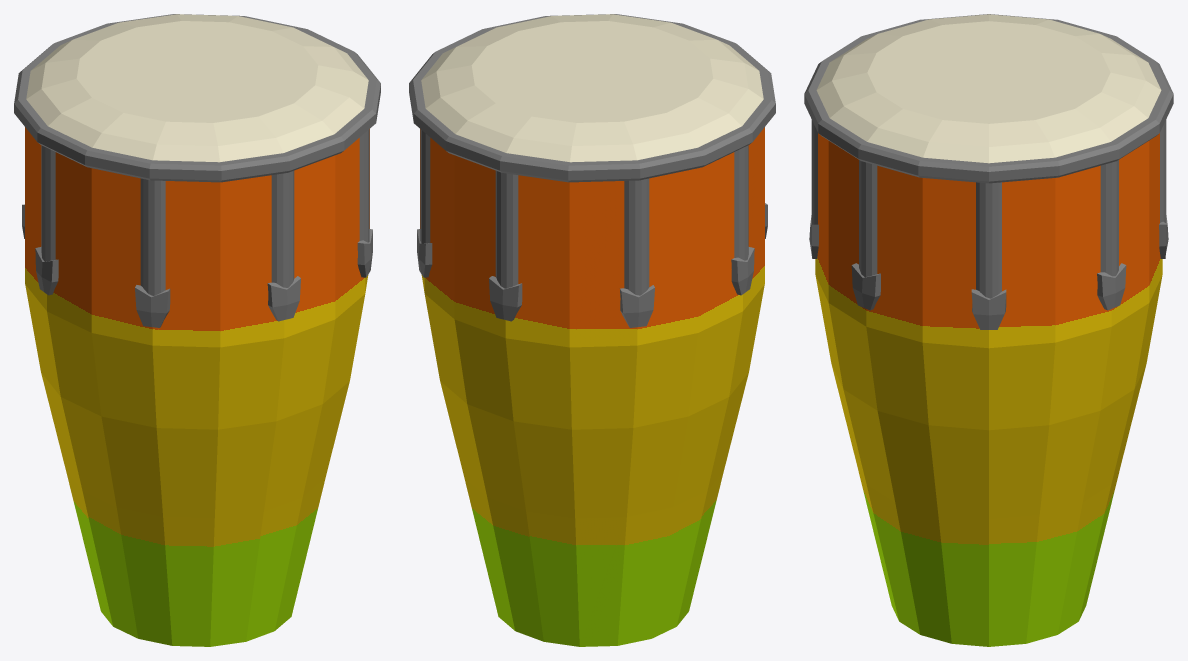
The model's file is Congas_Drum.fbx.
The picture shows the model from 3 angles, left to right: view 1: azimuth 30°, elevation 25°; view 2: azimuth 150°, elevation 25°; view 3: azimuth 270°, elevation 25°; orthographic projection.
Visible parts, largest first — view 1: Congas_Drum; view 2: Congas_Drum; view 3: Congas_Drum.
Part boxes in pixels (x1=…): Congas_Drum: x1=14, y1=14, x2=380, y2=646; Congas_Drum: x1=409, y1=14, x2=775, y2=646; Congas_Drum: x1=804, y1=14, x2=1173, y2=646.
Size of the model in its own units: 213 by 339 by 213.
1 material, 1 textured.
